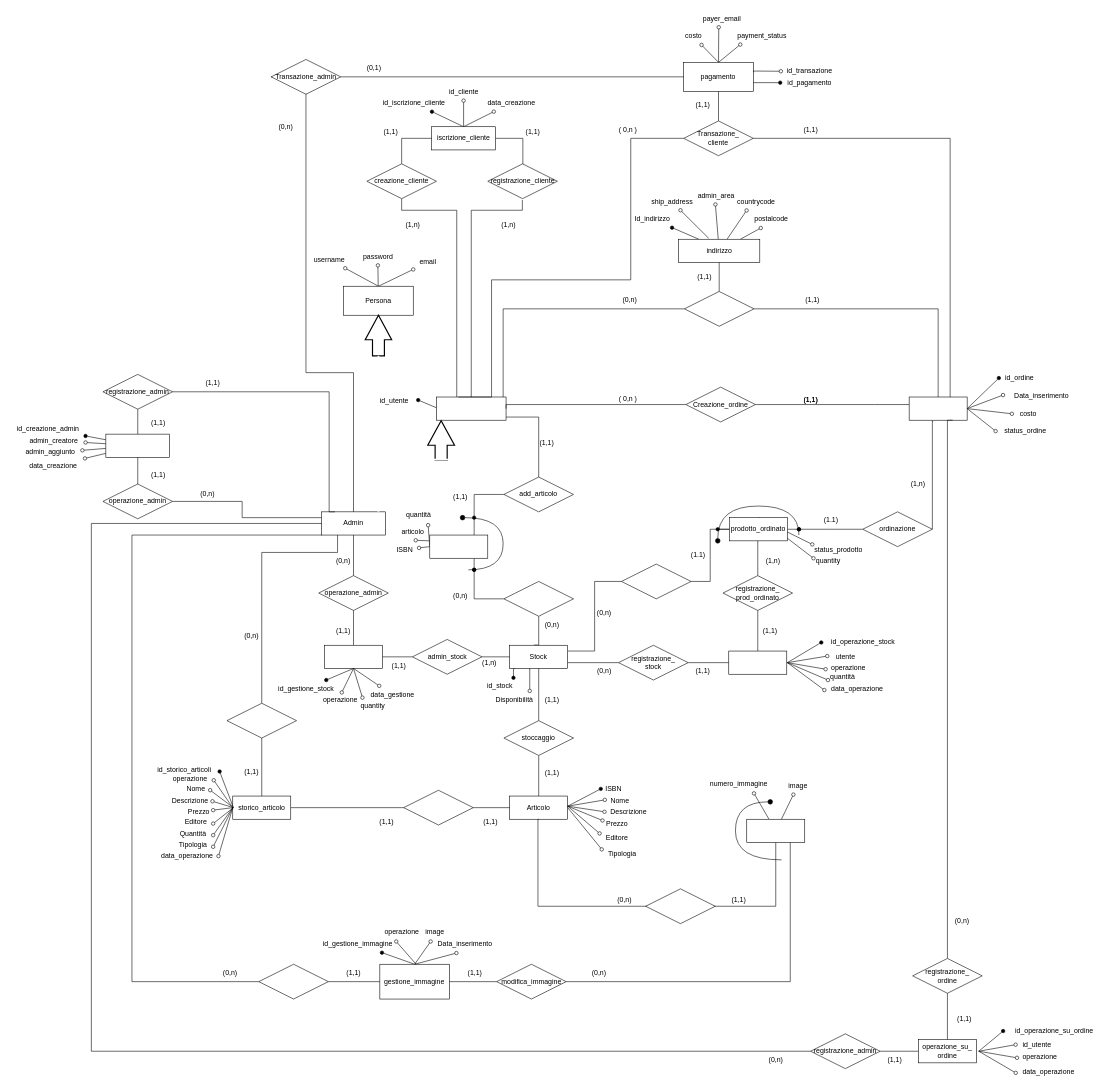
This 1110x1090 diagram has some shape labels left out. The centre of each missing label's shape, as x and y in pixels:
"articolo-immagine" belongs at point 680,906.
"Carrello" belongs at point 458,546.
"Cliente" belongs at point 471,408.
"creazione_admin" belongs at point 137,445.
"dati_spedizione" belongs at point 719,308.
"gestione-stock" belongs at point 353,656.
"gestione_articolo" belongs at point 438,807.
"gestione_inventario" belongs at point 261,720.
"Immagine_articolo" belongs at point 775,830.
"move_prodotto" belongs at point 656,581.
"operazione_ stock" belongs at point 757,662.
"operazione_immagine" belongs at point 293,981.
"Ordine" belongs at point 938,408.
"save_articolo" belongs at point 538,598.
